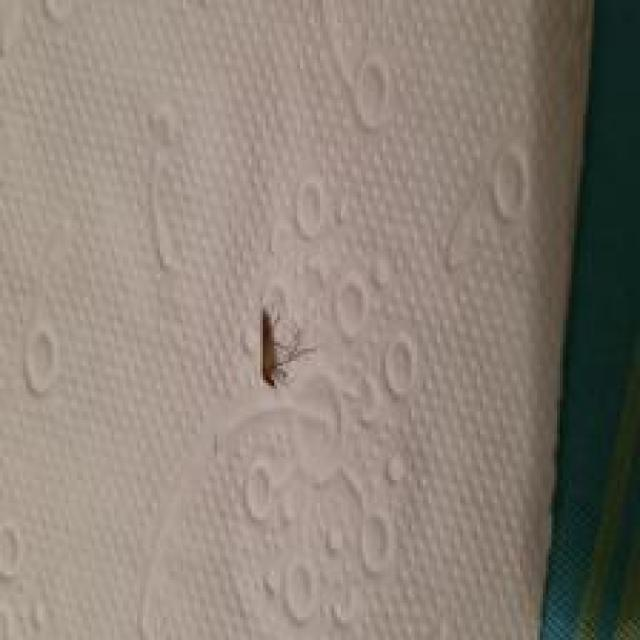Culex: (257, 306, 314, 388)
